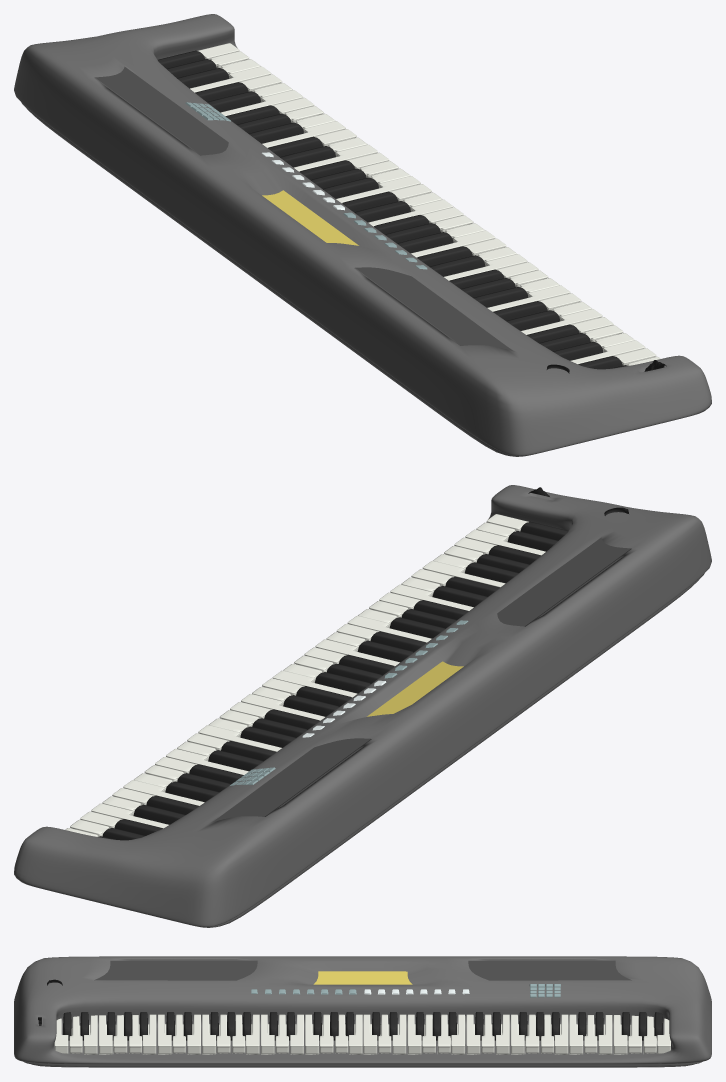
The model's file is ElectricPiano.glb.
The picture shows the model from 3 angles, top to bottom: view 1: azimuth 30°, elevation 25°; view 2: azimuth 150°, elevation 25°; view 3: azimuth 270°, elevation 25°; orthographic projection. The views are drawn at different scales.
Visible parts, largest first — view 1: Plane, Plane.077, Plane.078, Plane.075, Plane.047; view 2: Plane, Plane.078, Plane.077, Plane.075, Plane.033, Plane.040; view 3: Plane, Plane.078, Plane.077, Plane.075, Plane.045, Plane.069, Plane.044, Plane.056, Plane.049, Plane.041, Plane.012, Plane.072 (+67 smaller).
Part boxes in pixels (left/top/right/bottom): Plane: left=14, top=14, right=711, bottom=456; Plane.077: left=355, top=267, right=513, bottom=351; Plane.078: left=95, top=66, right=228, bottom=155; Plane.075: left=262, top=190, right=358, bottom=245; Plane.047: left=355, top=201, right=410, bottom=222; Plane: left=14, top=485, right=711, bottom=927; Plane.078: left=212, top=738, right=370, bottom=822; Plane.077: left=497, top=537, right=630, bottom=626; Plane.075: left=367, top=661, right=463, bottom=716; Plane.033: left=357, top=640, right=413, bottom=662; Plane.040: left=283, top=695, right=338, bottom=716; Plane: left=14, top=956, right=711, bottom=1067; Plane.078: left=468, top=961, right=631, bottom=980; Plane.077: left=94, top=961, right=257, bottom=980; Plane.075: left=313, top=971, right=412, bottom=984; Plane.045: left=392, top=1014, right=406, bottom=1054; Plane.069: left=598, top=1015, right=612, bottom=1054; Plane.044: left=407, top=1014, right=421, bottom=1054; Plane.056: left=554, top=1014, right=568, bottom=1054; Plane.049: left=466, top=1014, right=480, bottom=1054; Plane.041: left=451, top=1014, right=465, bottom=1054; Plane.012: left=142, top=1014, right=156, bottom=1054; Plane.072: left=569, top=1014, right=583, bottom=1054.
Bounding box in the file's own units: 2.06 × 0.6564 × 8.53.
